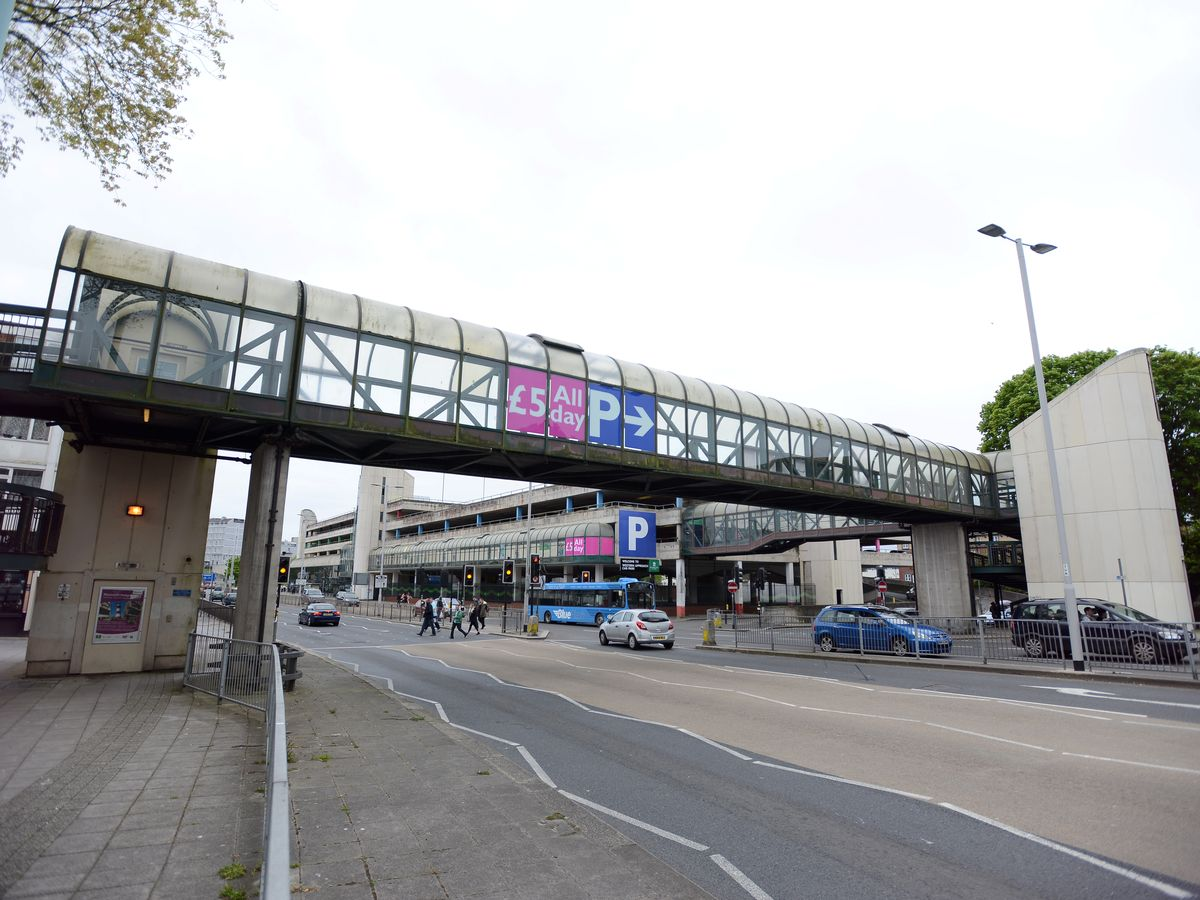bridge: (1, 224, 1013, 671)
